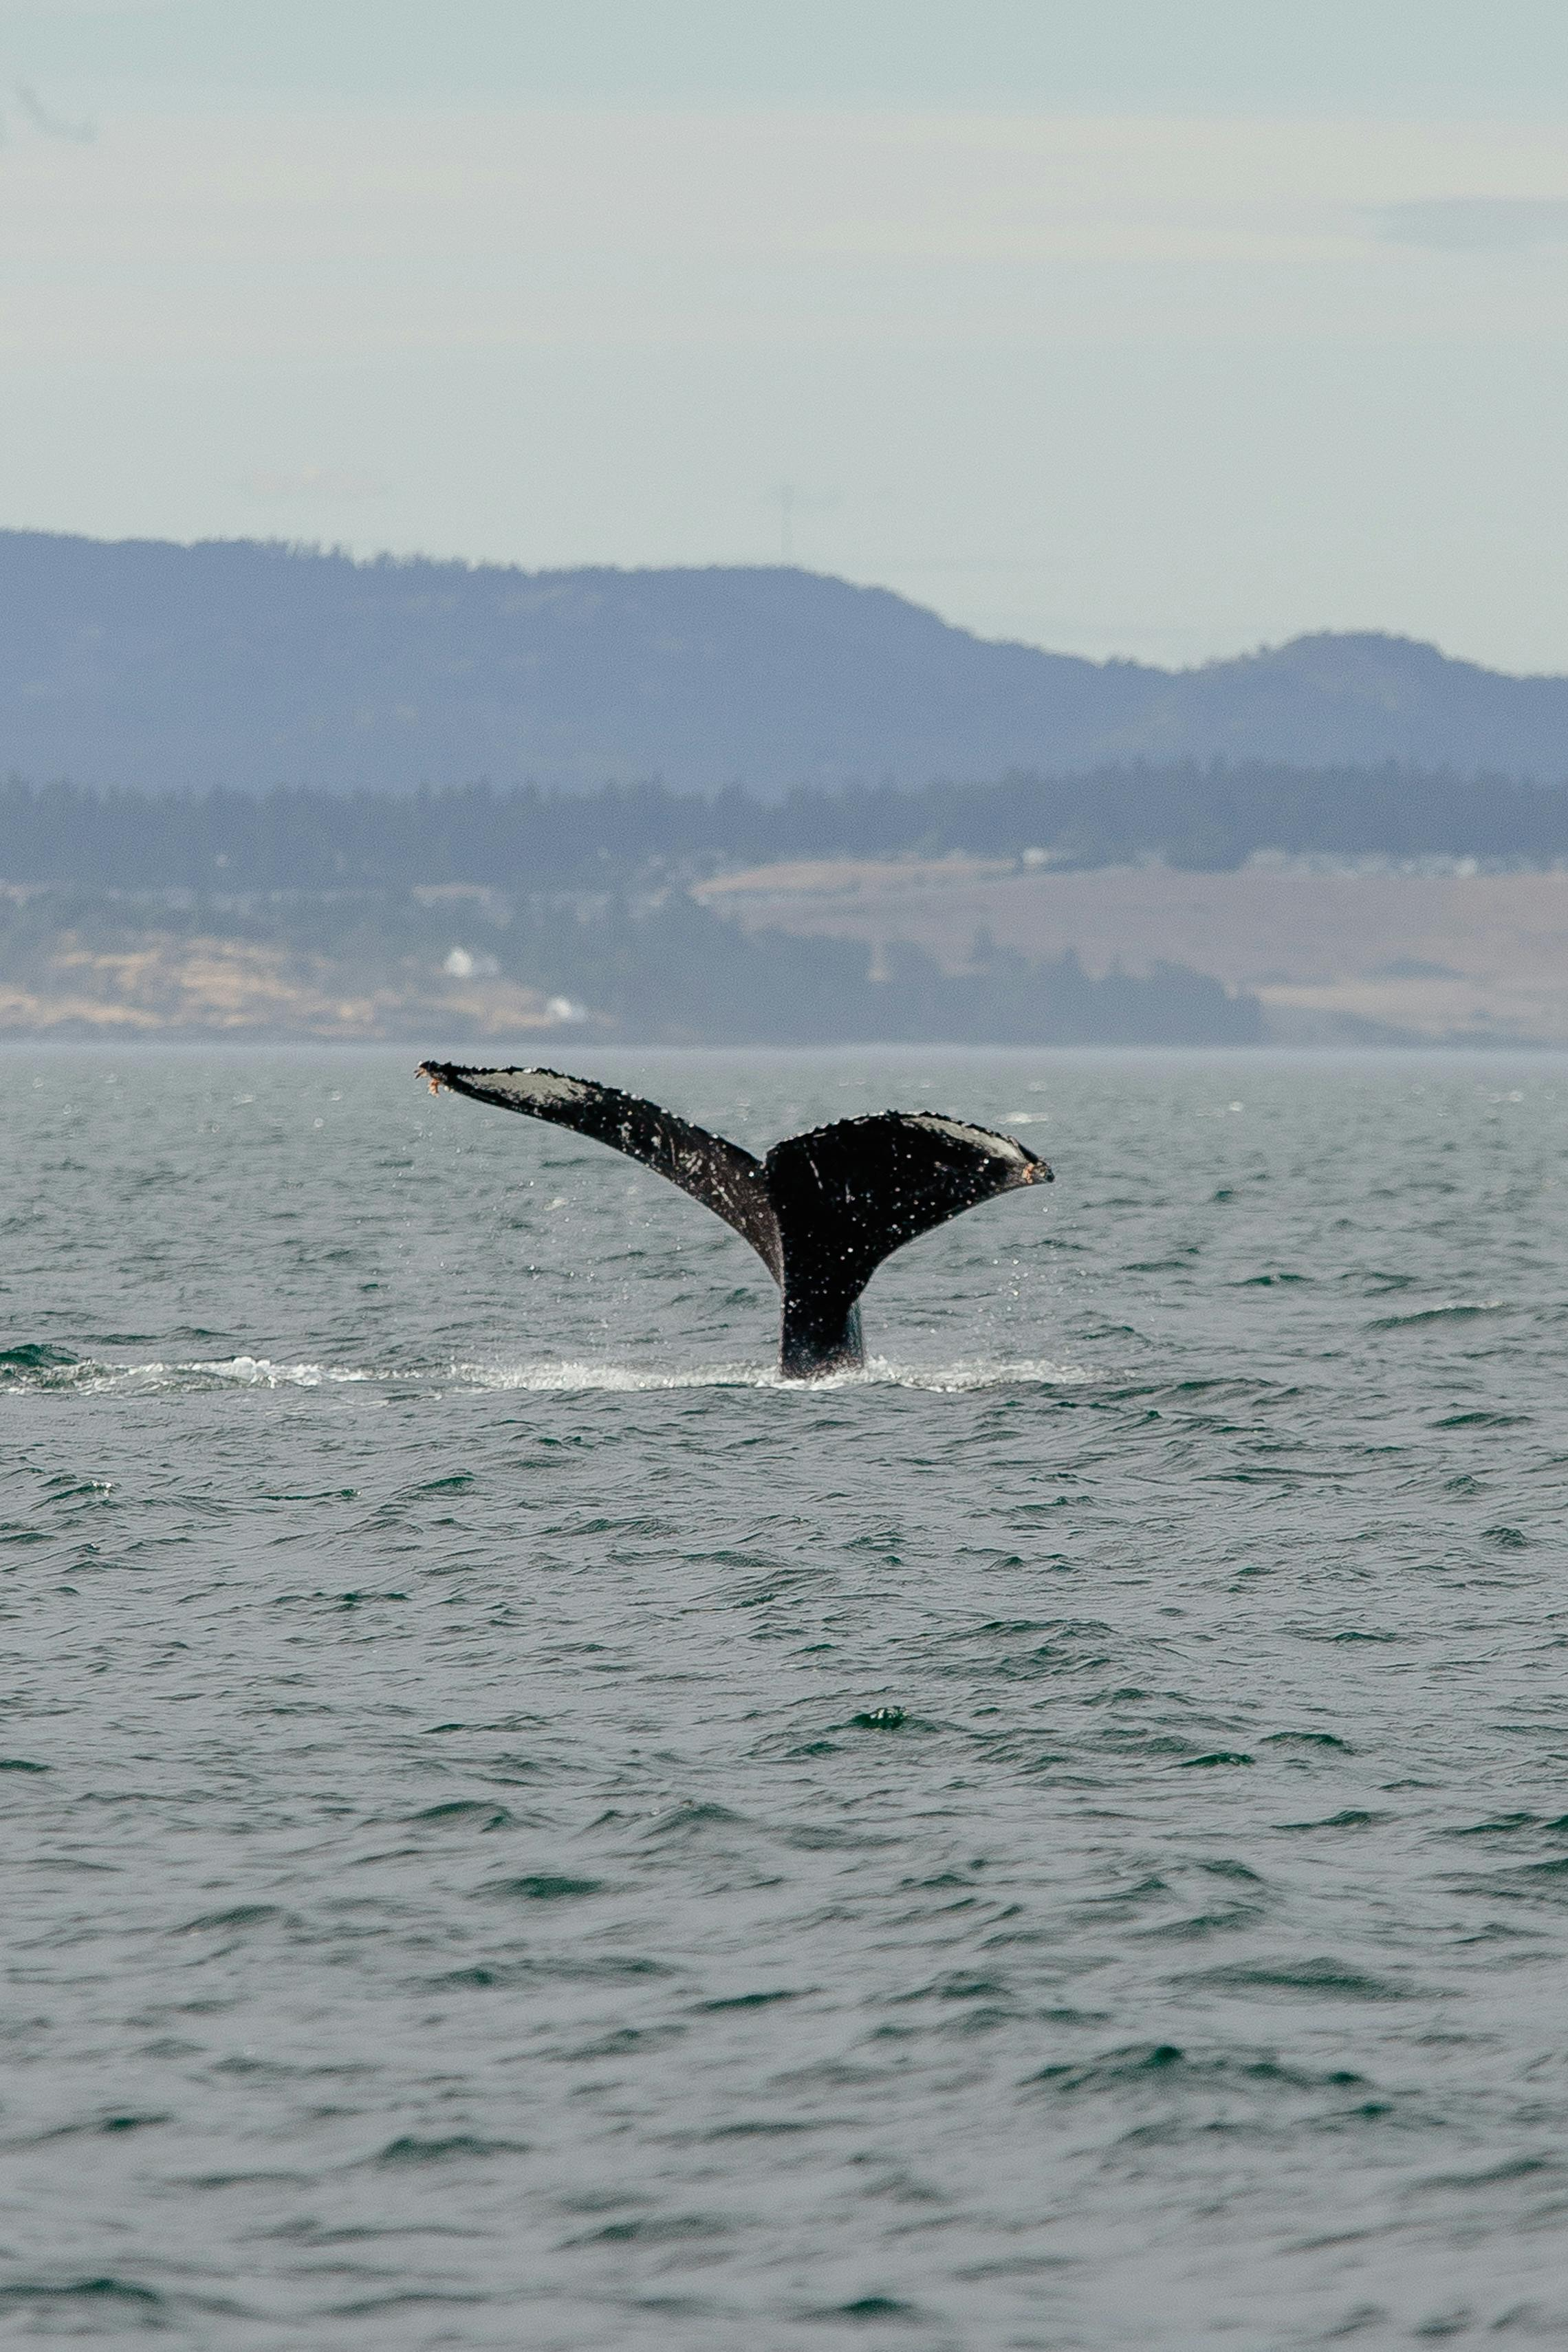whale: (408, 1048, 1059, 1381)
